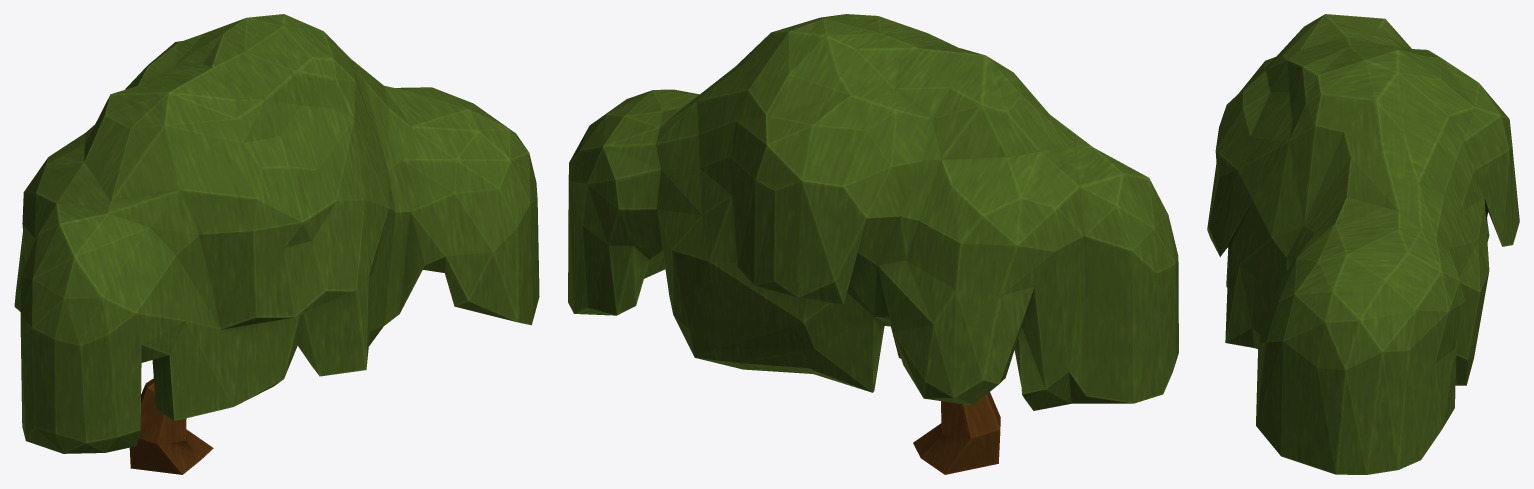
The model's file is willow.glb.
The picture shows the model from 3 angles, left to right: view 1: azimuth 30°, elevation 25°; view 2: azimuth 150°, elevation 25°; view 3: azimuth 270°, elevation 25°; orthographic projection. The views are drawn at different scales.
Visible parts, largest first — view 1: node-0; view 2: node-0; view 3: node-0.
Part boxes in pixels (<box>): node-0: <box>14,14,539,474</box>; node-0: <box>568,14,1178,474</box>; node-0: <box>1207,14,1519,474</box>.
Bounding box in the file's own units: 10.97 × 7.76 × 5.8.
Materials: 1 (1 with a texture image).
